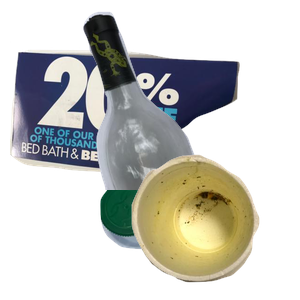glass: (81, 10, 300, 190)
paper: (10, 41, 242, 207)
plastic: (98, 176, 266, 300)
trash: (129, 152, 300, 300)
